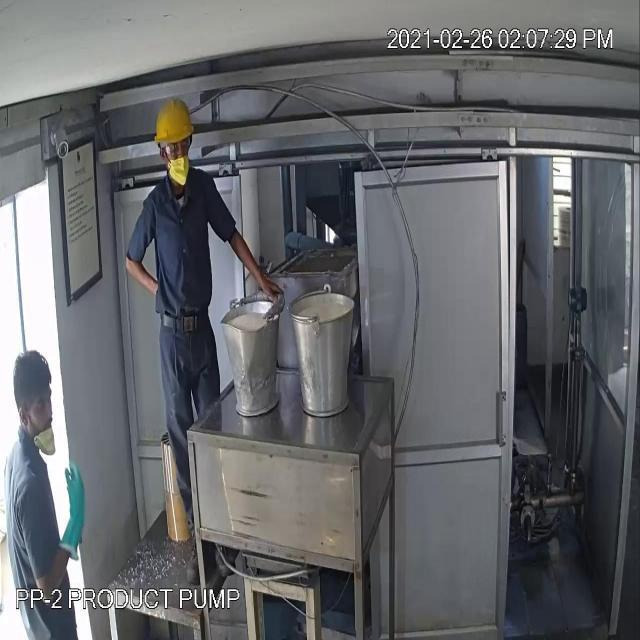hat: (148, 90, 202, 156)
no hat: (8, 332, 60, 420)
